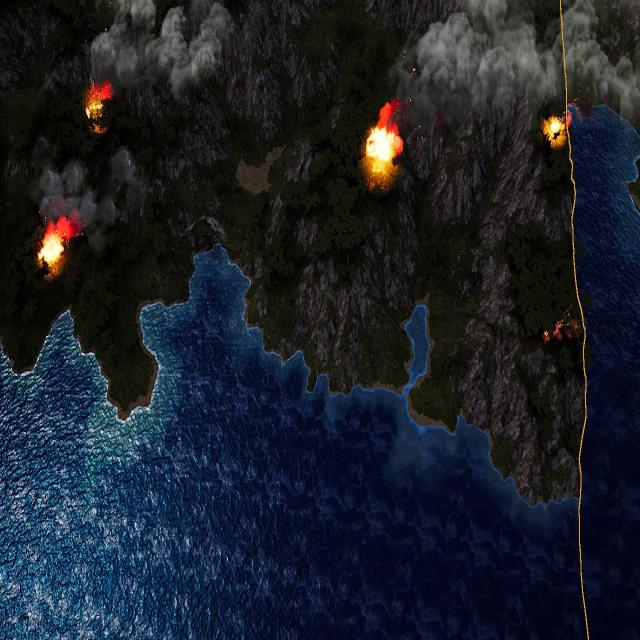fire: (365, 120, 402, 174), (38, 220, 72, 268), (86, 82, 114, 122), (545, 117, 565, 140), (542, 322, 562, 343)
smoke: (380, 0, 561, 116), (87, 0, 234, 90), (38, 144, 145, 251), (562, 0, 637, 120)
